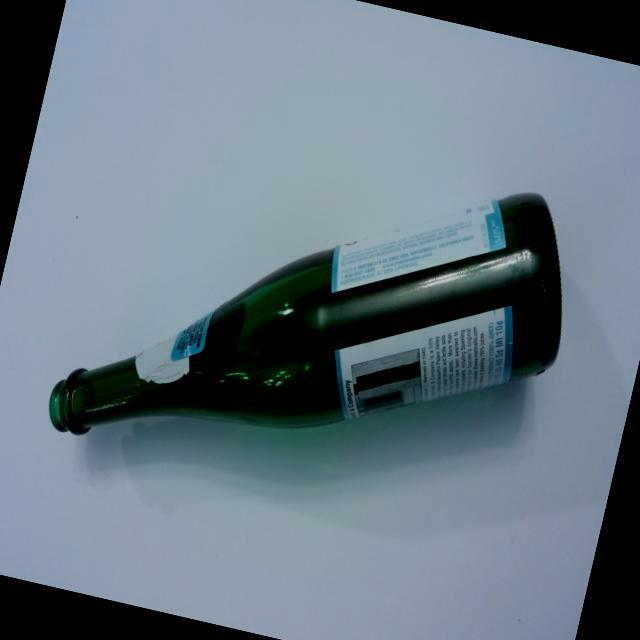glass: (31, 88, 602, 553)
